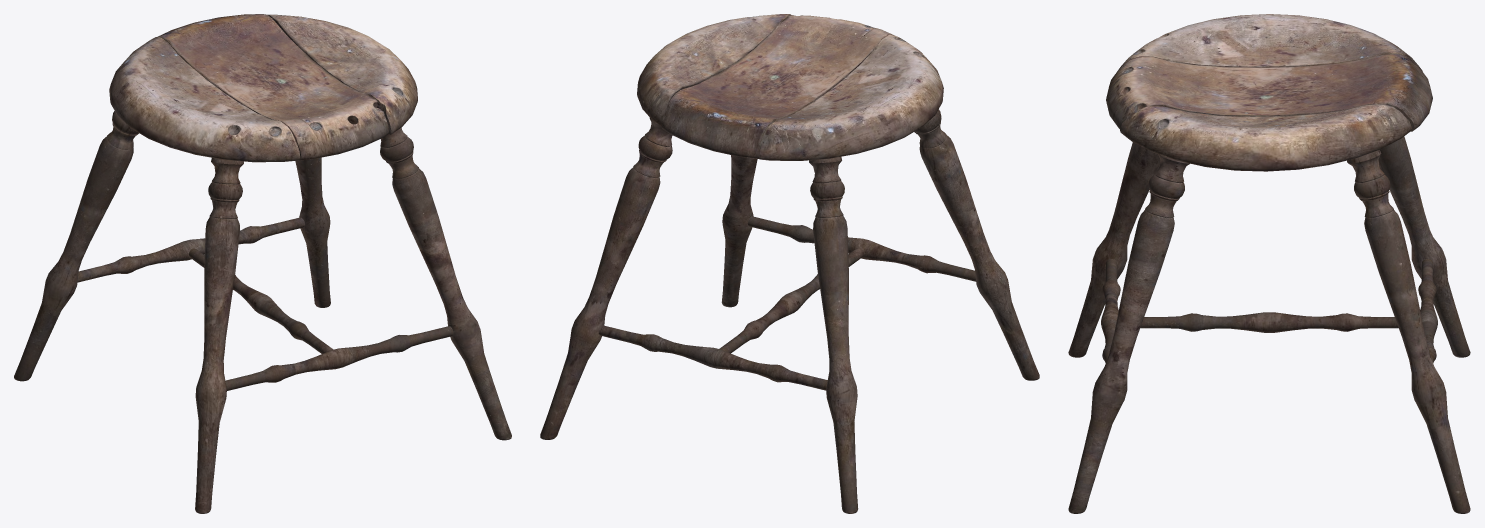
The model's file is wooden_stool_01.glb.
3 renders of one model, left to right at view 1: azimuth 30°, elevation 25°; view 2: azimuth 150°, elevation 25°; view 3: azimuth 270°, elevation 25°, orthographic. The views are drawn at different scales.
Parts seen in each view (by area): view 1: wooden_stool_01; view 2: wooden_stool_01; view 3: wooden_stool_01.
Part boxes in pixels (x1=…): wooden_stool_01: x1=14, y1=14, x2=511, y2=513; wooden_stool_01: x1=540, y1=14, x2=1039, y2=513; wooden_stool_01: x1=1068, y1=14, x2=1470, y2=513.
Size of the model in its own units: 0.4254 by 0.4373 by 0.4424.
Materials: 1 (1 with a texture image).
